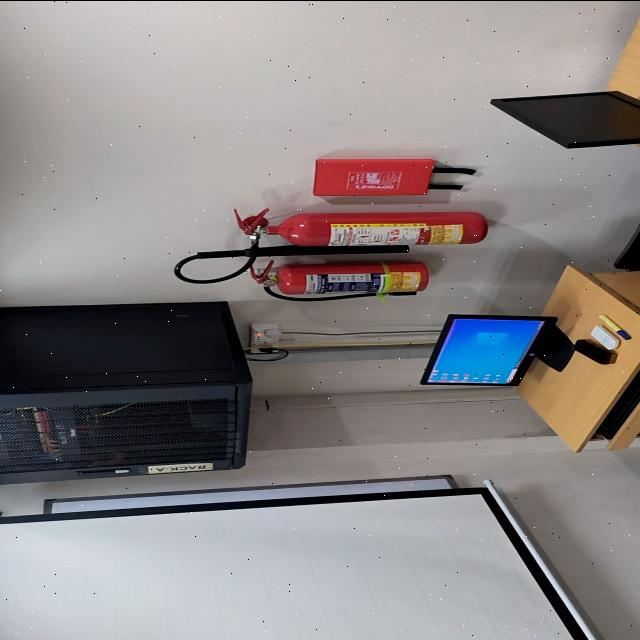Fire Extinguisher: (235, 208, 488, 246), (273, 261, 428, 294)
Keyboard: (593, 370, 640, 439)
Monitor: (420, 314, 575, 385), (490, 90, 640, 147)
